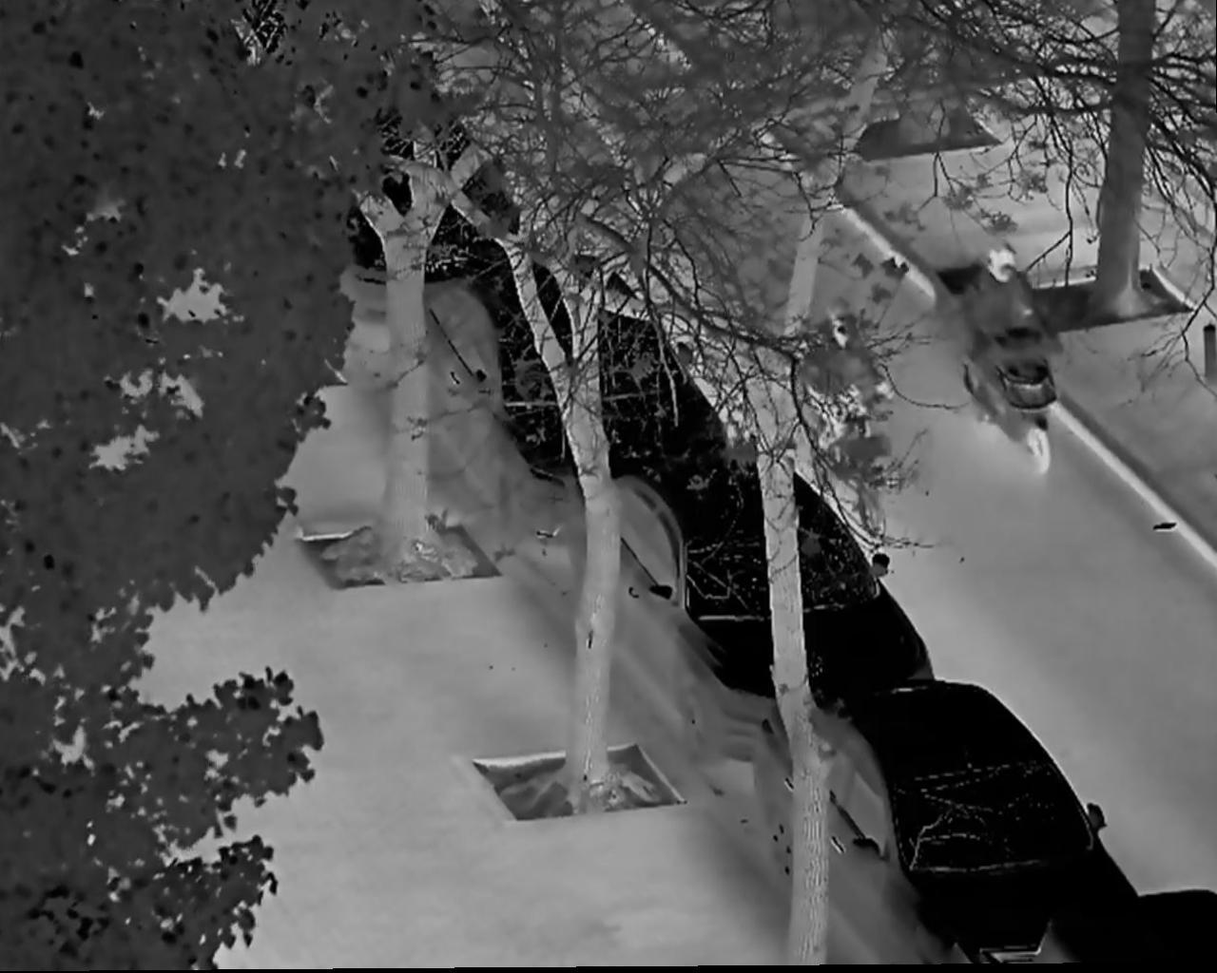person: (797, 293, 895, 465), (965, 248, 1063, 418)
